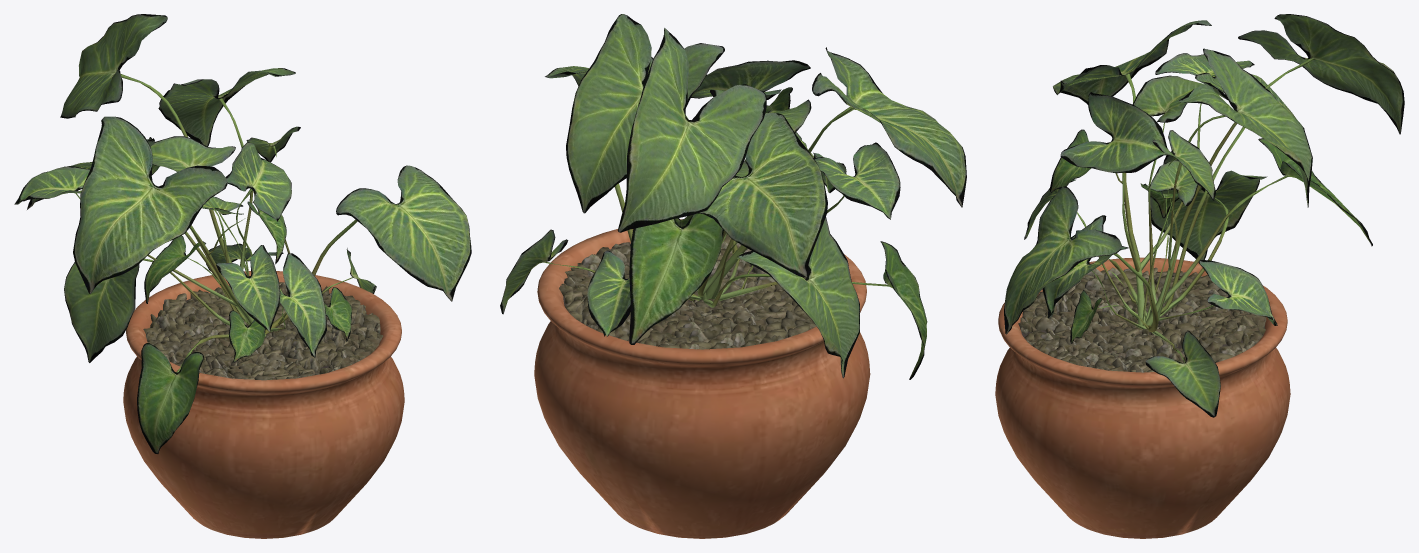
File: potted_plant_02.glb
3 views of the same model, side by side, from view 1: azimuth 30°, elevation 25°; view 2: azimuth 150°, elevation 25°; view 3: azimuth 270°, elevation 25° (orthographic). The views are drawn at different scales.
Visible parts, largest first — view 1: potted_plant_02_leaves, potted_plant_02_pot, potted_plant_02_dirt; view 2: potted_plant_02_leaves, potted_plant_02_pot, potted_plant_02_dirt; view 3: potted_plant_02_leaves, potted_plant_02_pot, potted_plant_02_dirt.
Boxes of the visible parts, left/top/right/bottom form: potted_plant_02_leaves: left=14, top=14, right=471, bottom=453; potted_plant_02_pot: left=123, top=271, right=404, bottom=538; potted_plant_02_dirt: left=143, top=282, right=383, bottom=380; potted_plant_02_leaves: left=500, top=14, right=966, bottom=379; potted_plant_02_pot: left=534, top=219, right=870, bottom=538; potted_plant_02_dirt: left=559, top=233, right=816, bottom=349; potted_plant_02_leaves: left=1004, top=14, right=1404, bottom=417; potted_plant_02_pot: left=995, top=257, right=1290, bottom=538; potted_plant_02_dirt: left=1018, top=267, right=1266, bottom=372.
Size of the model in its own units: 0.7009 by 0.8412 by 0.6574.
2 materials, 2 textured.
